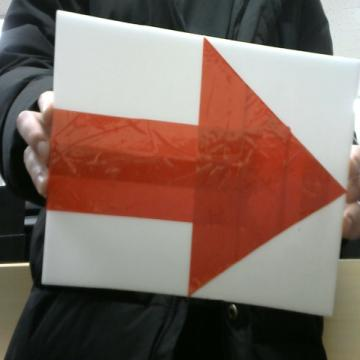red_right: (48, 39, 344, 294)
